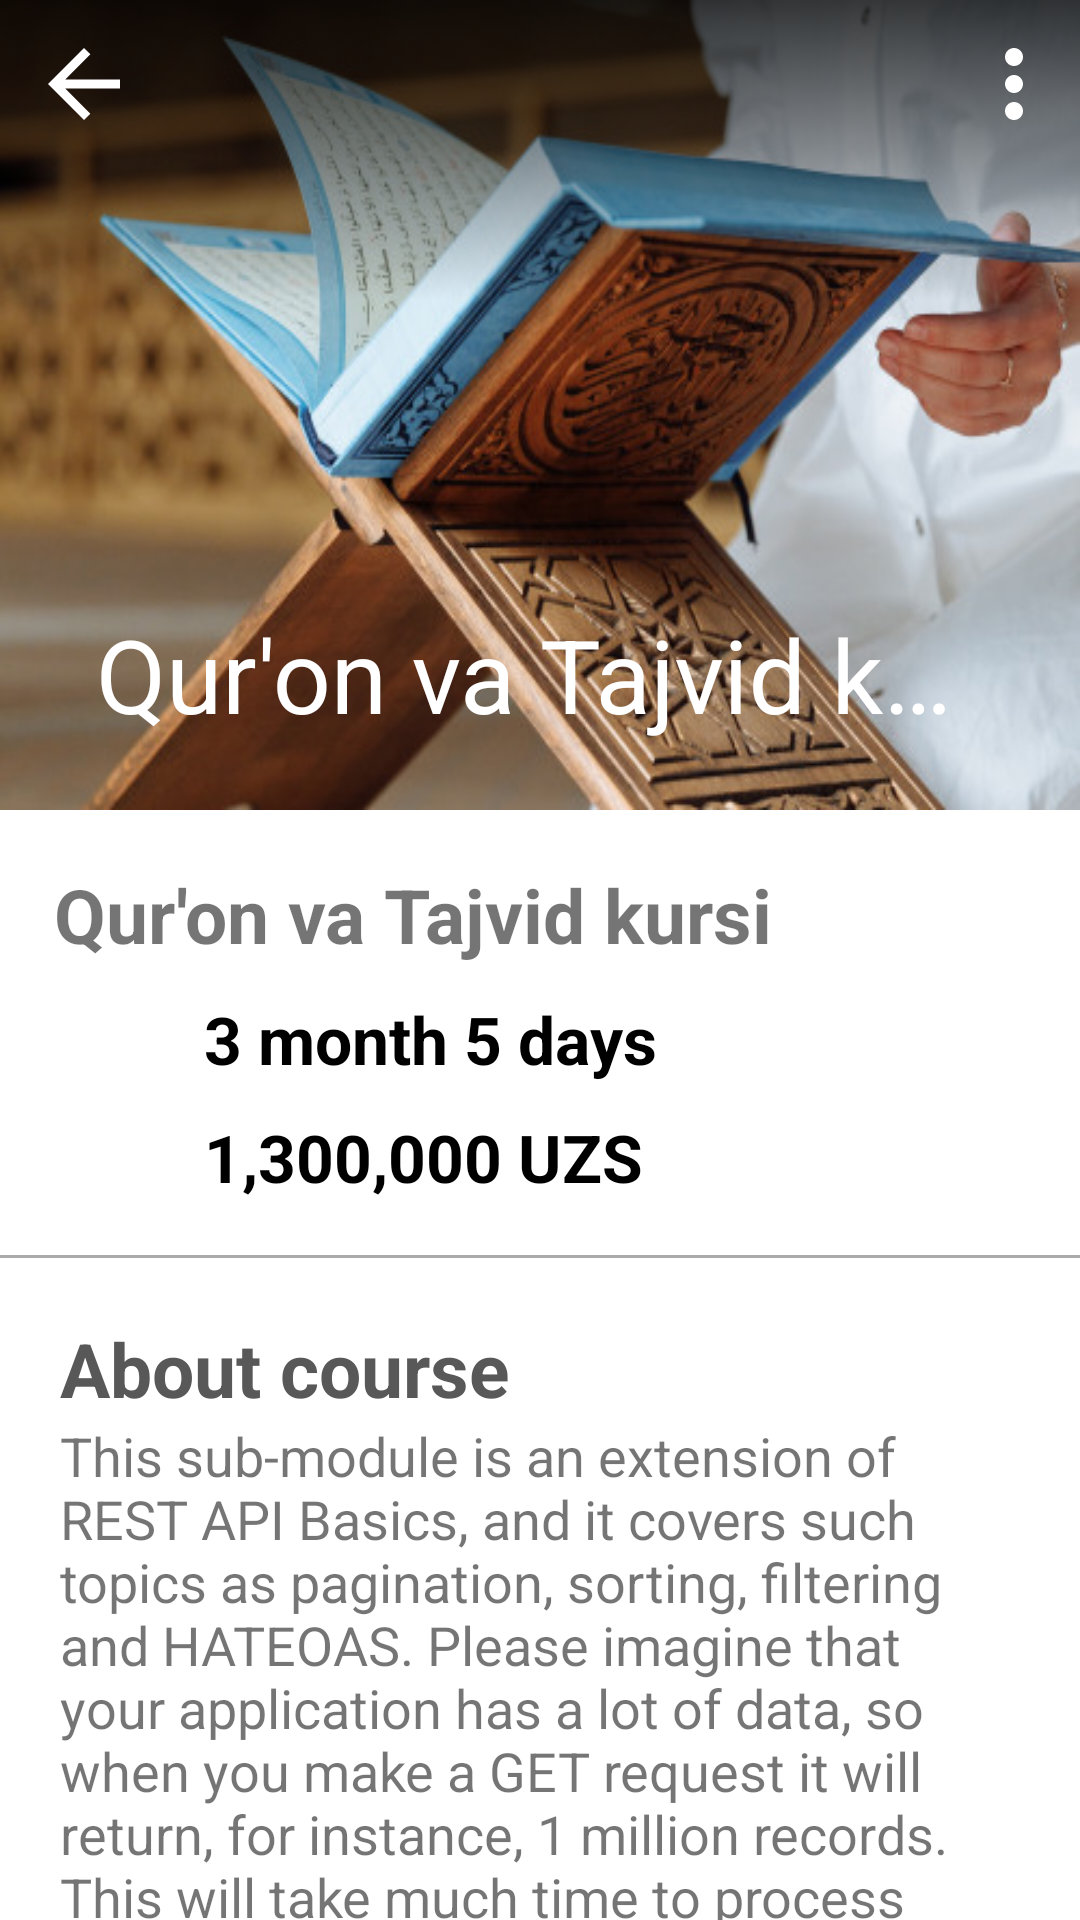

Screen size 1080x1920. Icon name, then its box in pixels as region(x1, y1, x2, y2):
back: region(30, 48, 120, 120)
